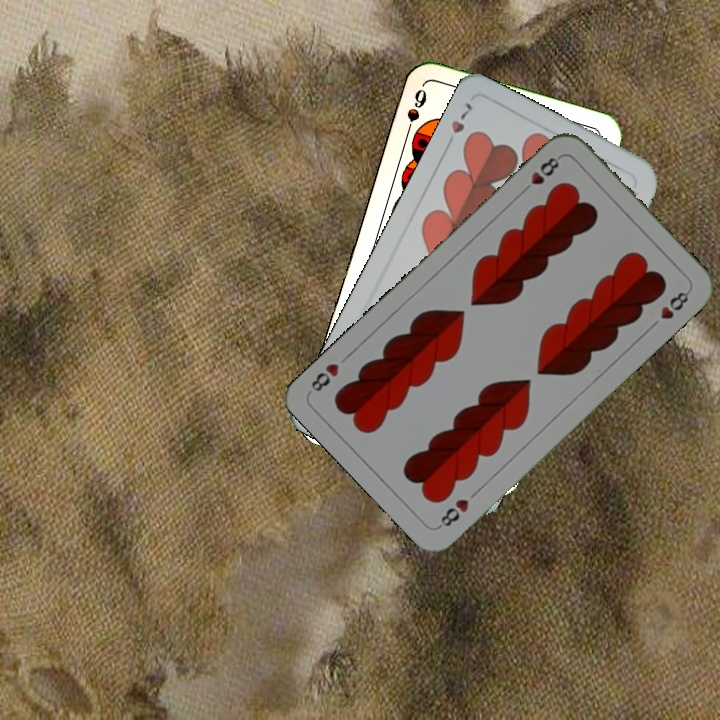H7: (441, 98, 475, 151)
H8: (517, 151, 564, 197), (434, 495, 472, 531)
S9: (401, 85, 430, 141)
